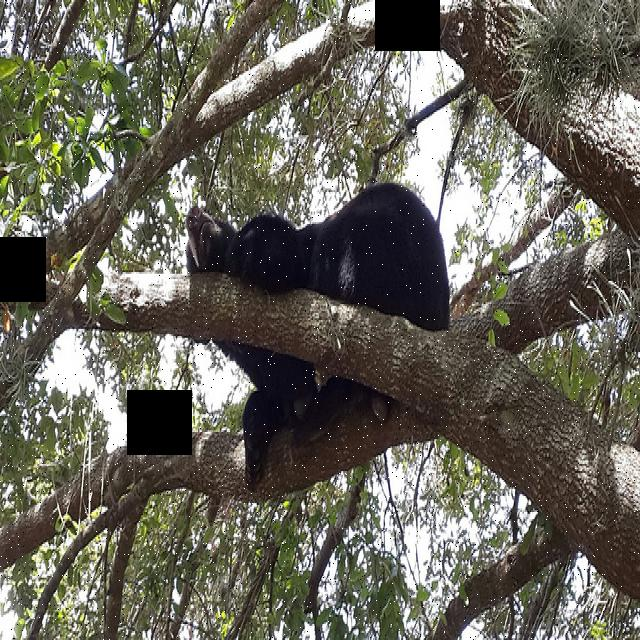Bear: (181, 176, 452, 439)
